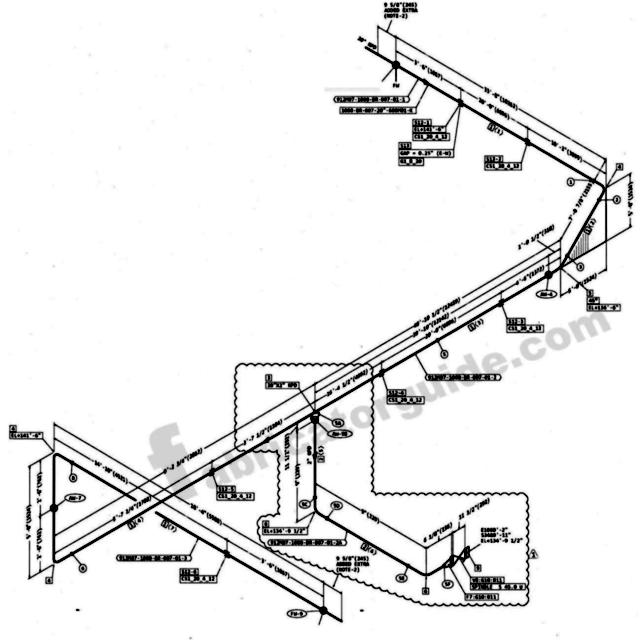Item number: (483, 153, 519, 162), (470, 575, 505, 584), (412, 117, 439, 126), (386, 388, 407, 397), (215, 485, 237, 493), (179, 567, 200, 575), (506, 317, 526, 325), (486, 122, 497, 133), (398, 141, 412, 149), (467, 322, 477, 333), (359, 541, 369, 552), (126, 520, 137, 530), (583, 226, 593, 236), (421, 587, 431, 596), (44, 576, 54, 585), (615, 162, 624, 171), (261, 519, 270, 528), (474, 563, 482, 573), (161, 519, 169, 529), (265, 373, 273, 382), (9, 424, 17, 433), (586, 289, 594, 297), (317, 455, 325, 463)
Measrement: (314, 235, 561, 387), (315, 260, 549, 407), (315, 252, 549, 397), (124, 380, 315, 496), (54, 434, 227, 544), (54, 457, 212, 557), (448, 66, 574, 140), (212, 396, 315, 467), (227, 536, 327, 602), (516, 176, 597, 247), (54, 425, 136, 486), (528, 125, 607, 178), (347, 500, 429, 548), (426, 492, 496, 542), (461, 85, 529, 133), (396, 47, 461, 94), (377, 0, 422, 42), (517, 222, 561, 260), (561, 264, 606, 300), (23, 483, 34, 580), (283, 421, 300, 475), (293, 427, 302, 525), (625, 174, 639, 232), (33, 457, 45, 519), (36, 514, 45, 575), (260, 527, 310, 536), (263, 381, 301, 390), (305, 444, 312, 466), (586, 296, 601, 305)
Pipeline: (151, 43, 610, 507), (149, 507, 351, 627), (312, 412, 442, 578), (50, 448, 151, 569)
Symbol: (543, 251, 572, 279), (404, 559, 445, 578), (443, 543, 472, 569), (310, 493, 331, 523), (589, 174, 609, 203), (307, 406, 324, 425), (258, 435, 276, 447), (421, 76, 433, 91), (311, 450, 320, 464)
Weld number: (576, 261, 586, 273), (612, 194, 622, 205), (78, 563, 88, 574), (566, 177, 576, 187), (68, 473, 78, 483), (440, 350, 450, 359)
other: (397, 150, 456, 167), (267, 537, 348, 548), (479, 526, 525, 545), (339, 105, 418, 116), (333, 554, 370, 574), (331, 95, 411, 104), (424, 373, 503, 382), (115, 554, 193, 563), (411, 126, 453, 142), (466, 583, 527, 591), (466, 591, 508, 601), (215, 492, 256, 502), (505, 324, 546, 334), (383, 396, 427, 405), (179, 575, 218, 584), (8, 431, 45, 440), (585, 304, 622, 312), (326, 430, 355, 439), (64, 493, 87, 503), (286, 609, 308, 619), (535, 290, 558, 299), (331, 418, 348, 428), (297, 499, 312, 509), (441, 579, 455, 589), (394, 574, 409, 583), (331, 500, 343, 511), (391, 82, 400, 89)
